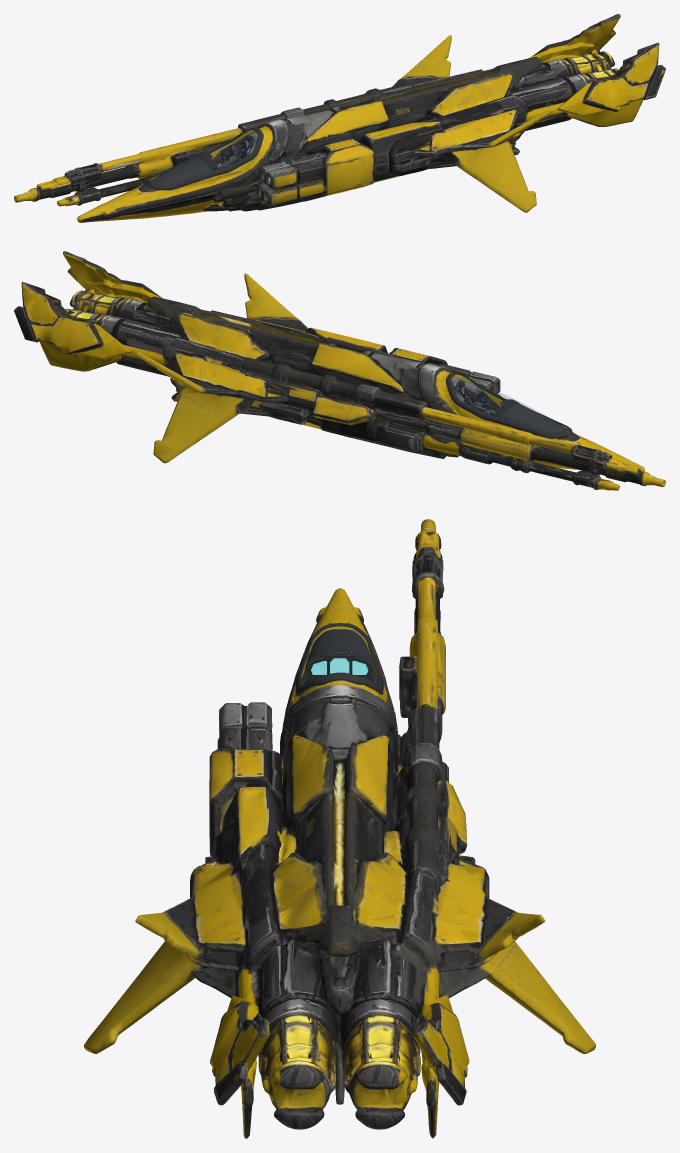
Rendered from puncture.glb.
3 views of the same model, one above another, from view 1: azimuth 30°, elevation 25°; view 2: azimuth 150°, elevation 25°; view 3: azimuth 270°, elevation 25° (orthographic). The views are drawn at different scales.
Visible parts, largest first — view 1: puncture_game_hull, puncture_game_glass, puncture_game_canopy_frame, puncture_game_hood, puncture_game_cockpit; view 2: puncture_game_hull, puncture_game_glass, puncture_game_canopy_frame, puncture_game_cockpit, puncture_game_hood; view 3: puncture_game_hull, puncture_game_glass, puncture_game_console, puncture_game_canopy_frame, puncture_game_hood.
Boxes of the visible parts, <box> form: puncture_game_hull: <box>14,14,665,222</box>; puncture_game_glass: <box>151,130,257,183</box>; puncture_game_canopy_frame: <box>145,127,263,190</box>; puncture_game_hood: <box>151,157,213,184</box>; puncture_game_cockpit: <box>213,133,258,169</box>; puncture_game_hull: <box>14,251,665,490</box>; puncture_game_glass: <box>452,374,565,431</box>; puncture_game_canopy_frame: <box>446,372,572,438</box>; puncture_game_cockpit: <box>451,377,500,416</box>; puncture_game_hood: <box>500,403,565,432</box>; puncture_game_hull: <box>84,519,595,1138</box>; puncture_game_glass: <box>302,626,377,684</box>; puncture_game_console: <box>301,649,377,685</box>; puncture_game_canopy_frame: <box>295,623,383,696</box>; puncture_game_hood: <box>304,629,374,670</box>.
Size of the model in its own units: 1.91 by 0.2894 by 0.7001.
8 materials, 3 textured.
